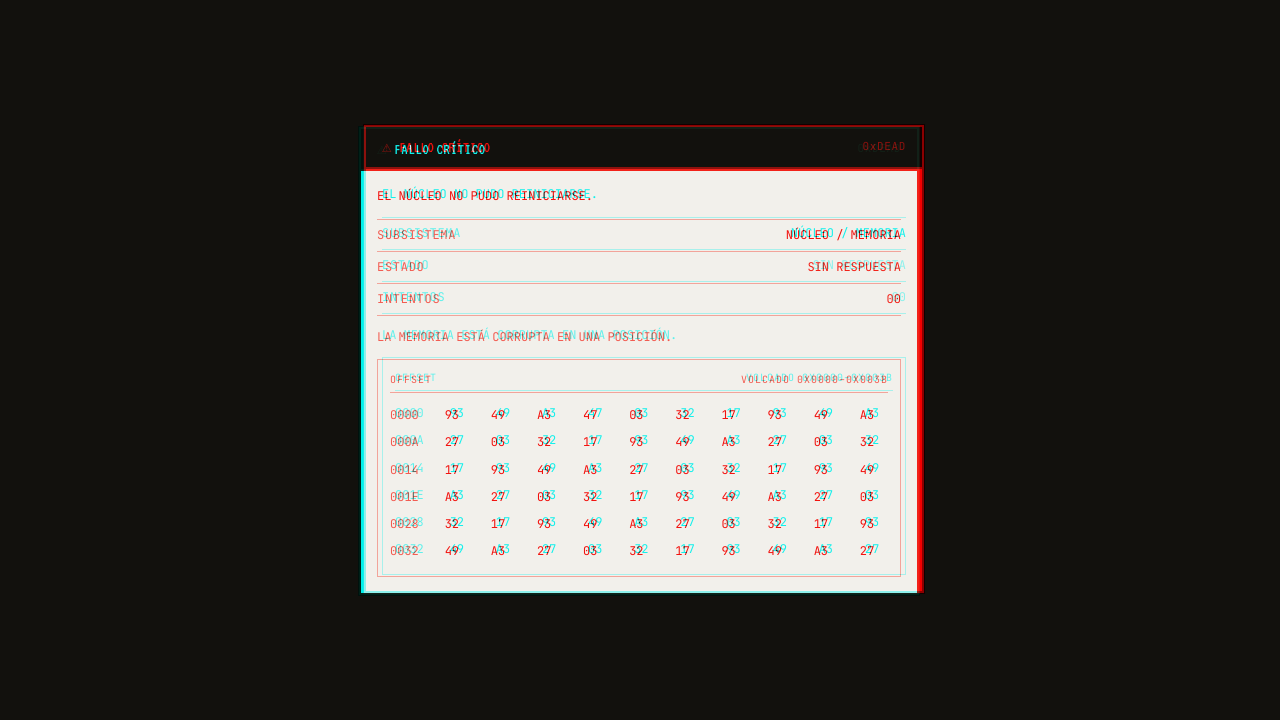
SystemLockout · la pantalla › lleva la cuenta de los intentos fallidos
Click the 1st button "93" at (453, 415), box 432,402 -> 474,428
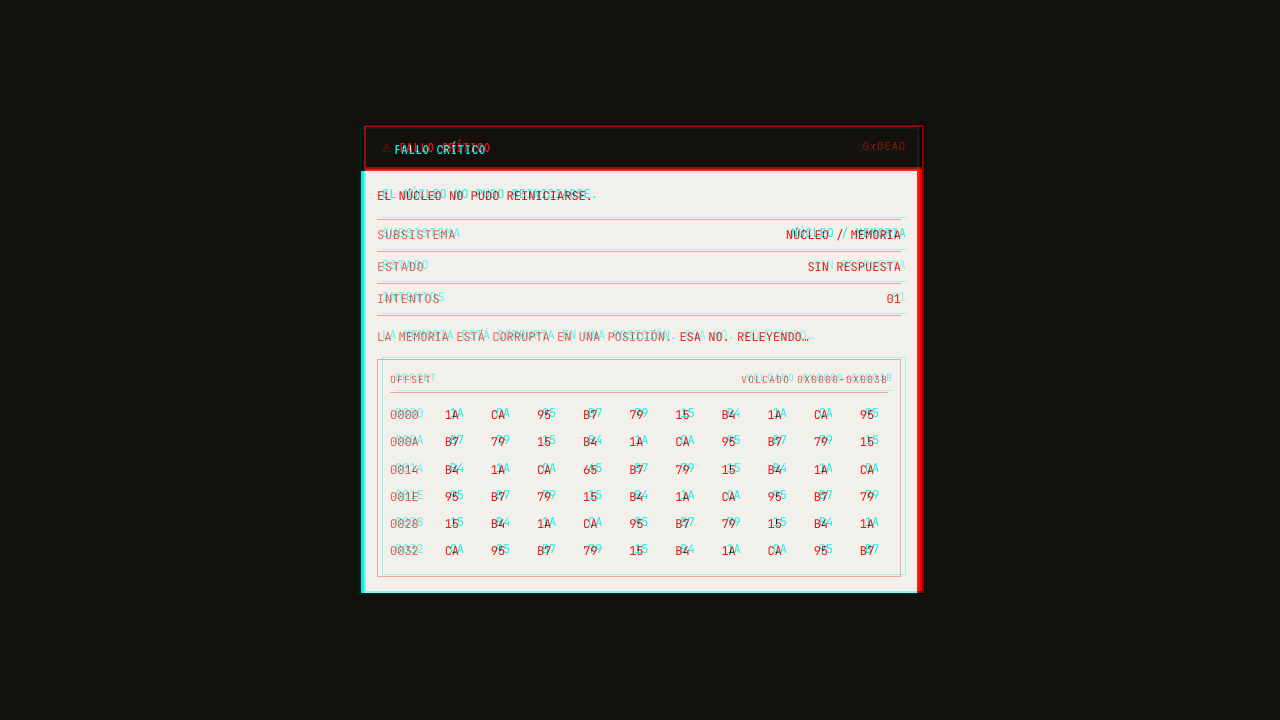
Expected: the text with test id "lockout-tries" reads "01", 888,290 -> 902,306
